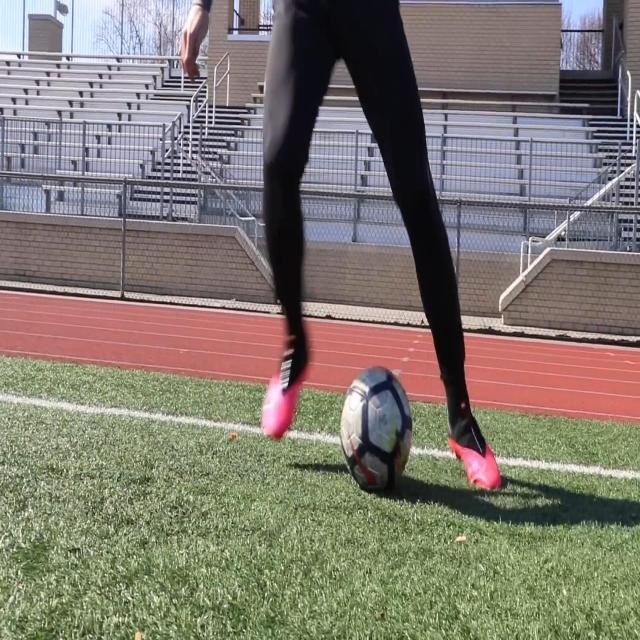ball: (340, 363, 412, 497)
